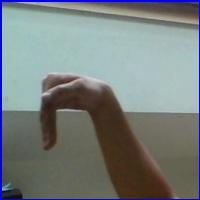del: (31, 69, 116, 157)
